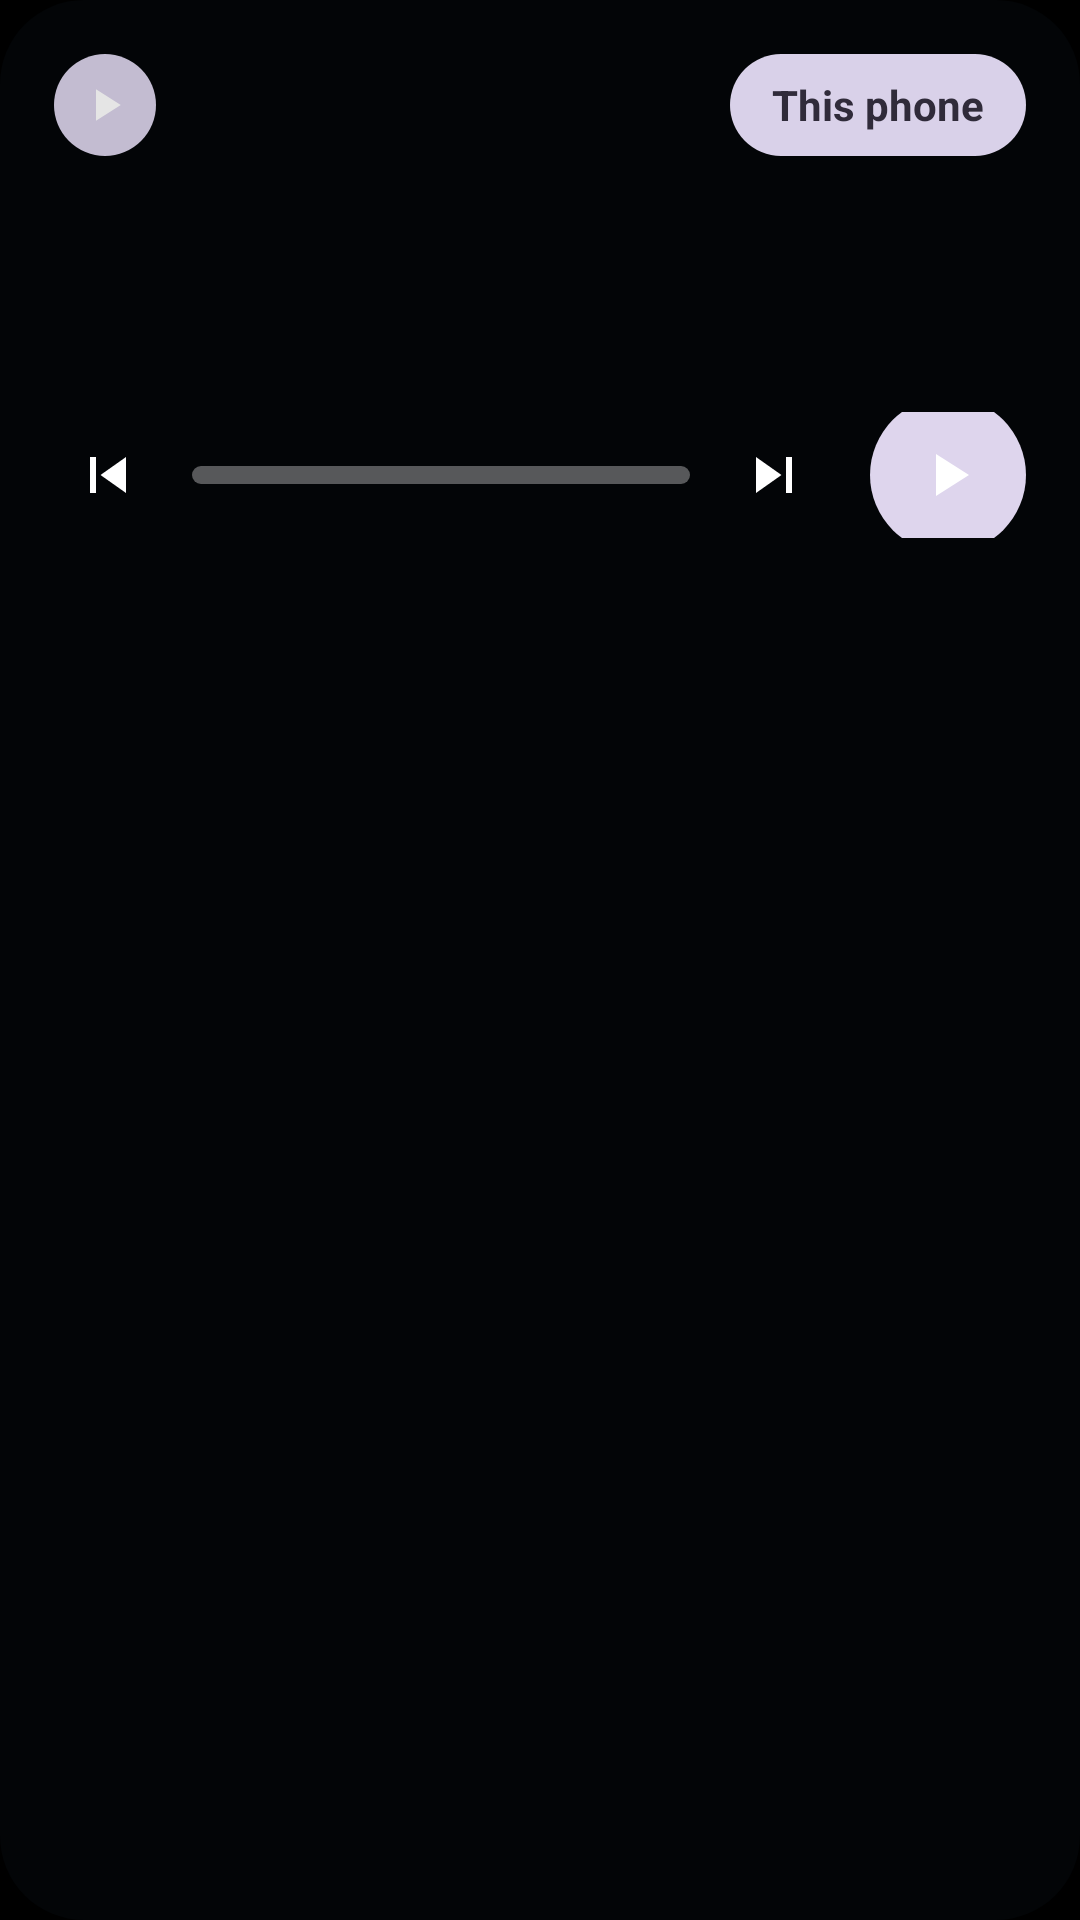

Point at icon controls on the screen. Image size 1080*1920, points as [x,y].
Next: [774,475]
Previous: [108,475]
